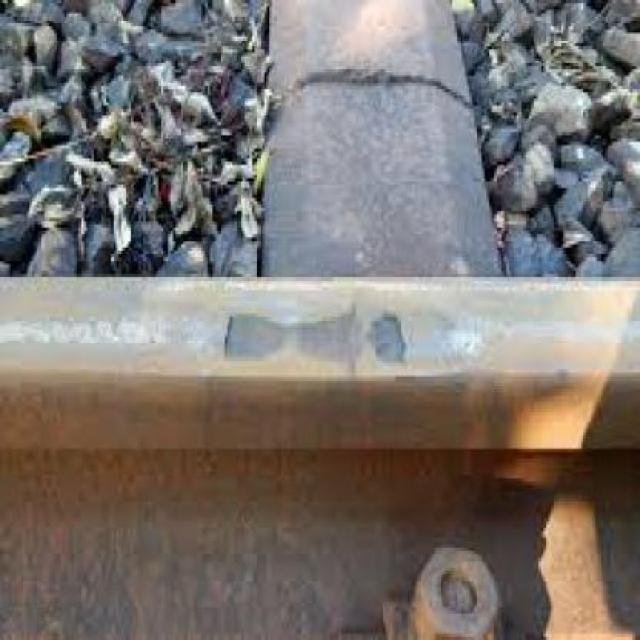defective: (189, 269, 557, 461), (267, 45, 509, 213)
